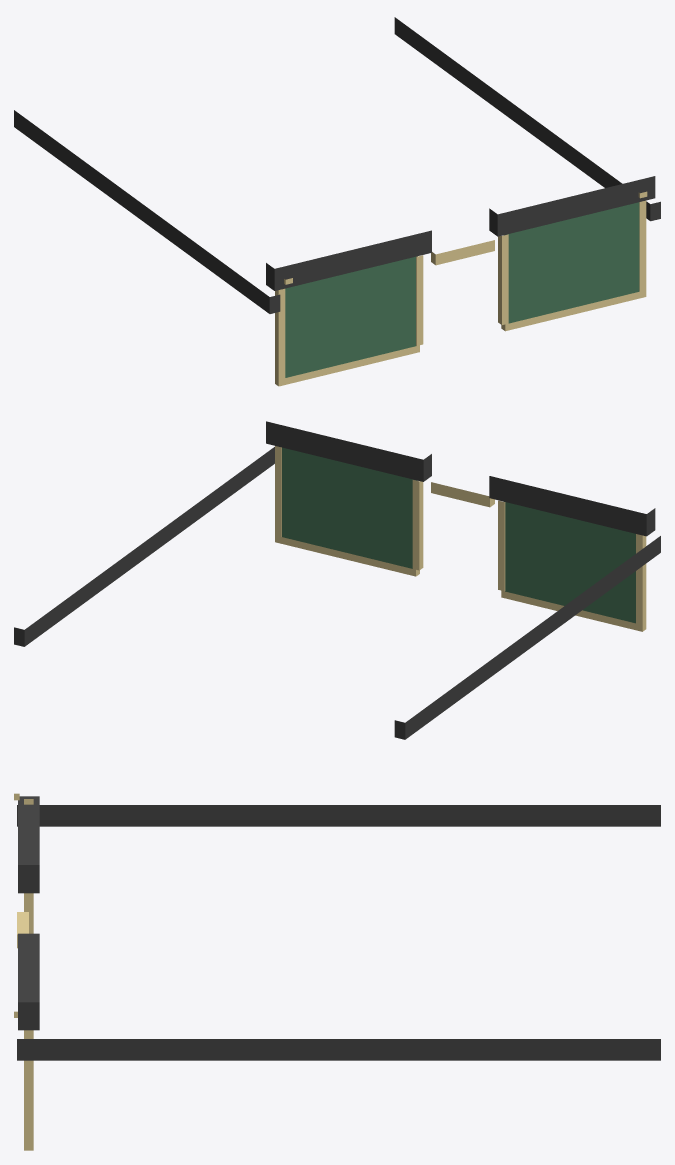
Rendered from clubmaster_black_gold.glb.
The picture shows the model from 3 angles, top to bottom: view 1: azimuth 30°, elevation 25°; view 2: azimuth 150°, elevation 25°; view 3: azimuth 270°, elevation 25°; orthographic projection. The views are drawn at different scales.
Visible parts, largest first — view 1: Clubmaster_G15_Lenses_Node, Clubmaster_Browline_Temples_Node, Clubmaster_Gold_Metal_Node; view 2: Clubmaster_G15_Lenses_Node, Clubmaster_Browline_Temples_Node, Clubmaster_Gold_Metal_Node; view 3: Clubmaster_Browline_Temples_Node, Clubmaster_Gold_Metal_Node.
Boxes of the visible parts, x1,y1,x2,y2 form: Clubmaster_G15_Lenses_Node: [285, 202, 639, 377]; Clubmaster_Browline_Temples_Node: [14, 17, 660, 313]; Clubmaster_Gold_Metal_Node: [275, 191, 647, 386]; Clubmaster_G15_Lenses_Node: [282, 447, 635, 623]; Clubmaster_Browline_Temples_Node: [14, 421, 660, 739]; Clubmaster_Gold_Metal_Node: [275, 446, 646, 631]; Clubmaster_Browline_Temples_Node: [17, 796, 660, 1060]; Clubmaster_Gold_Metal_Node: [14, 793, 33, 1150].
Size of the model in its own units: 119 by 35.25 by 136.
